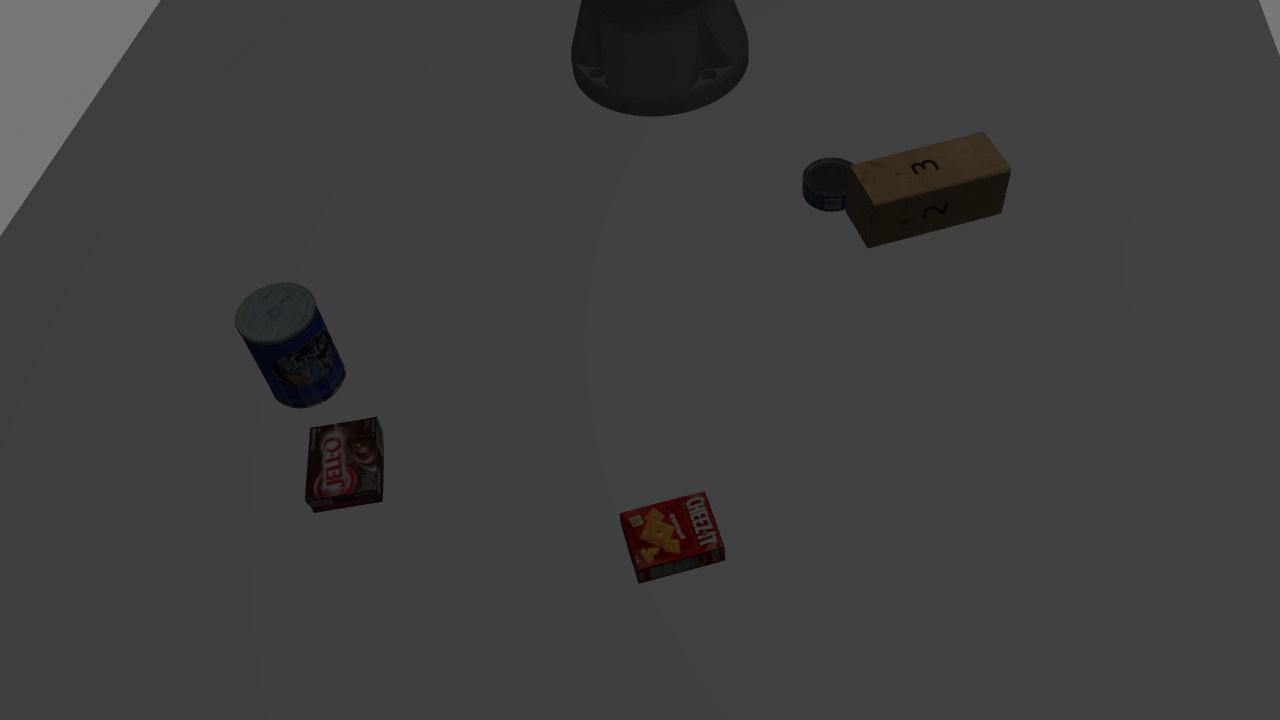cracker_box: (621, 487, 730, 588)
master_chef_can: (234, 277, 352, 408)
pudding_box: (300, 414, 386, 512)
tuna_fish_can: (798, 151, 860, 216)
wood_block: (846, 128, 1014, 255)
